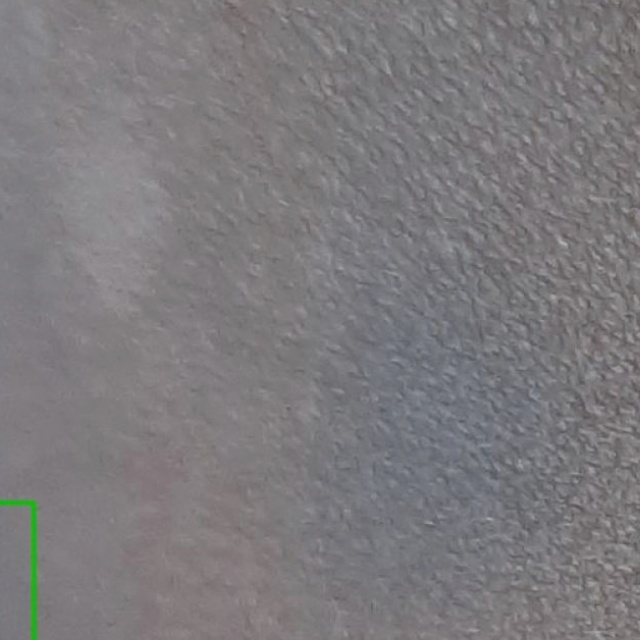Atopic Dermatitis: (0, 502, 33, 639)
